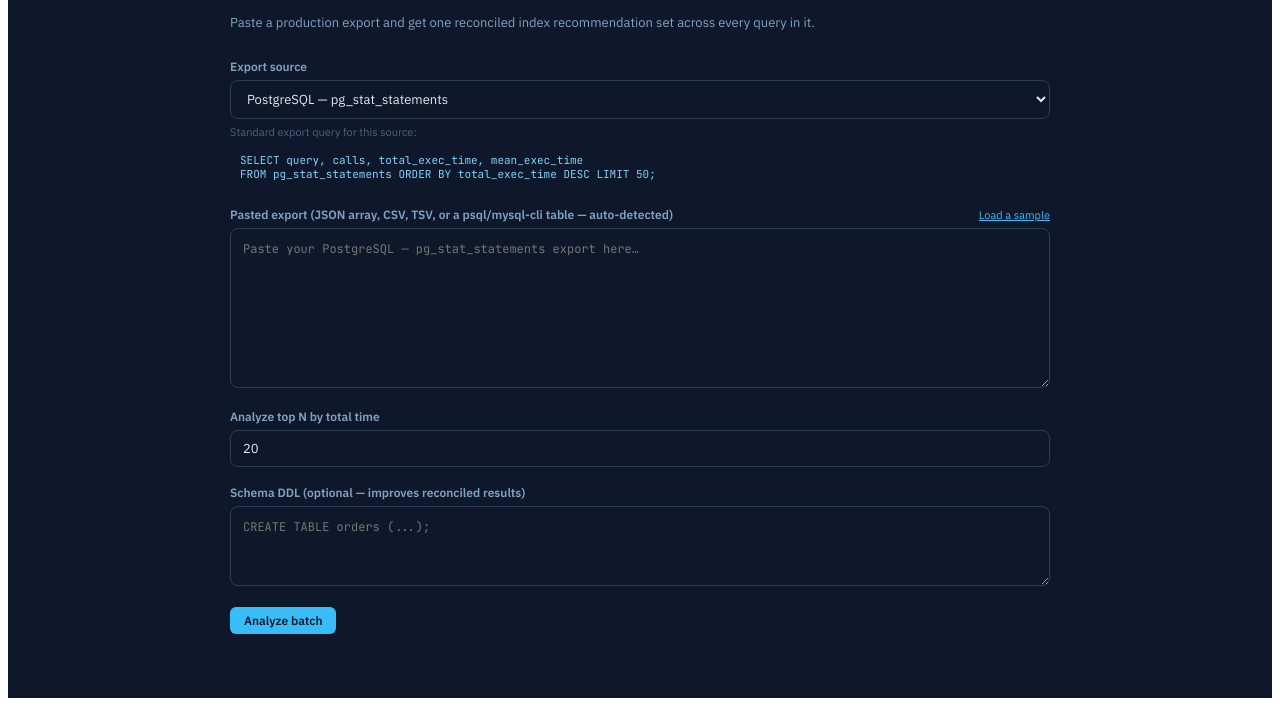
Test: BatchAnalysisPage — signed in, Pro › shows an inline error instead of submitting an empty export
(page scrolled)
Click the button "Analyze batch".
click(283, 621)  # box [230,607,336,634]
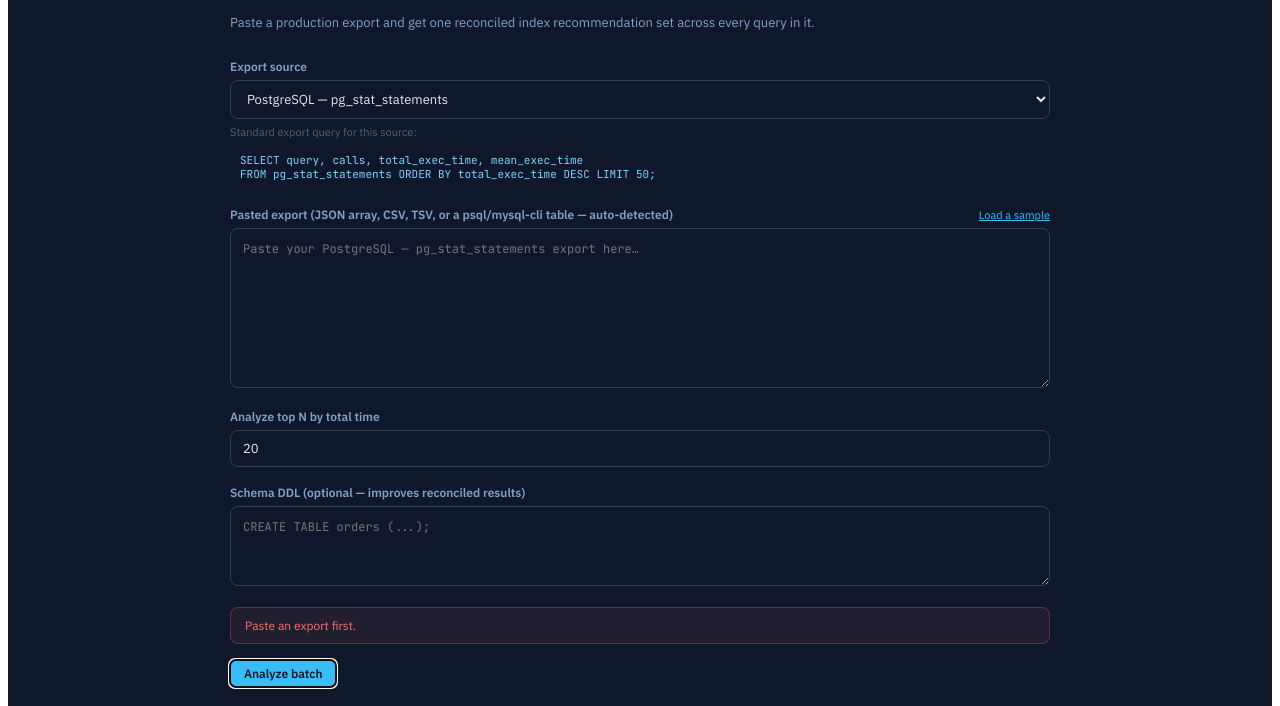
Expected: the text "Paste an export first." is shown, [230,607,1050,644]
